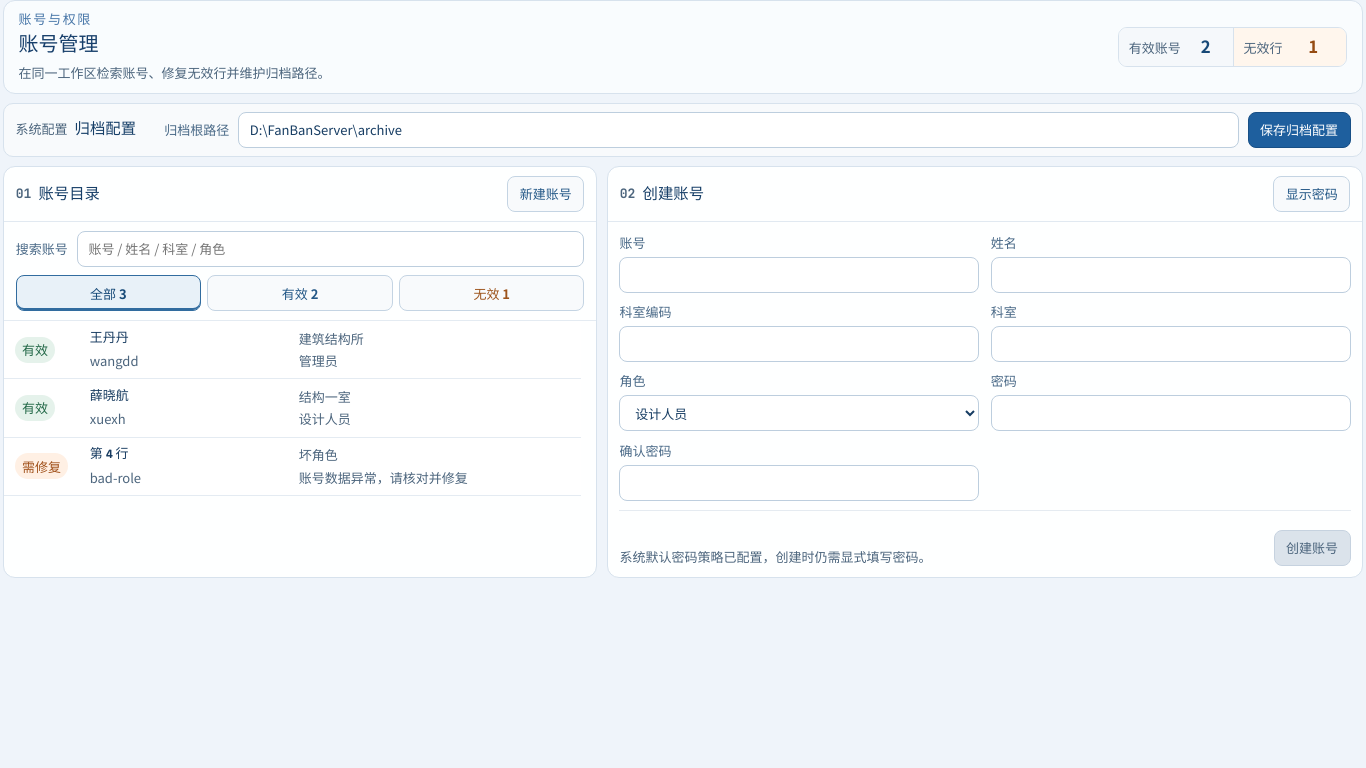
Test: AccountAdminPage › translates unknown invalid-row and backend errors with safe Chinese fallbacks
The image size is (1366, 768).
Expected: the text "账号数据异常，请核对并修复" is shown, [299,468,468,487]
Click the button "有效 王丹丹 wangdd 建筑结构所 管理员".
click(35, 350)  # box [4,321,581,379]
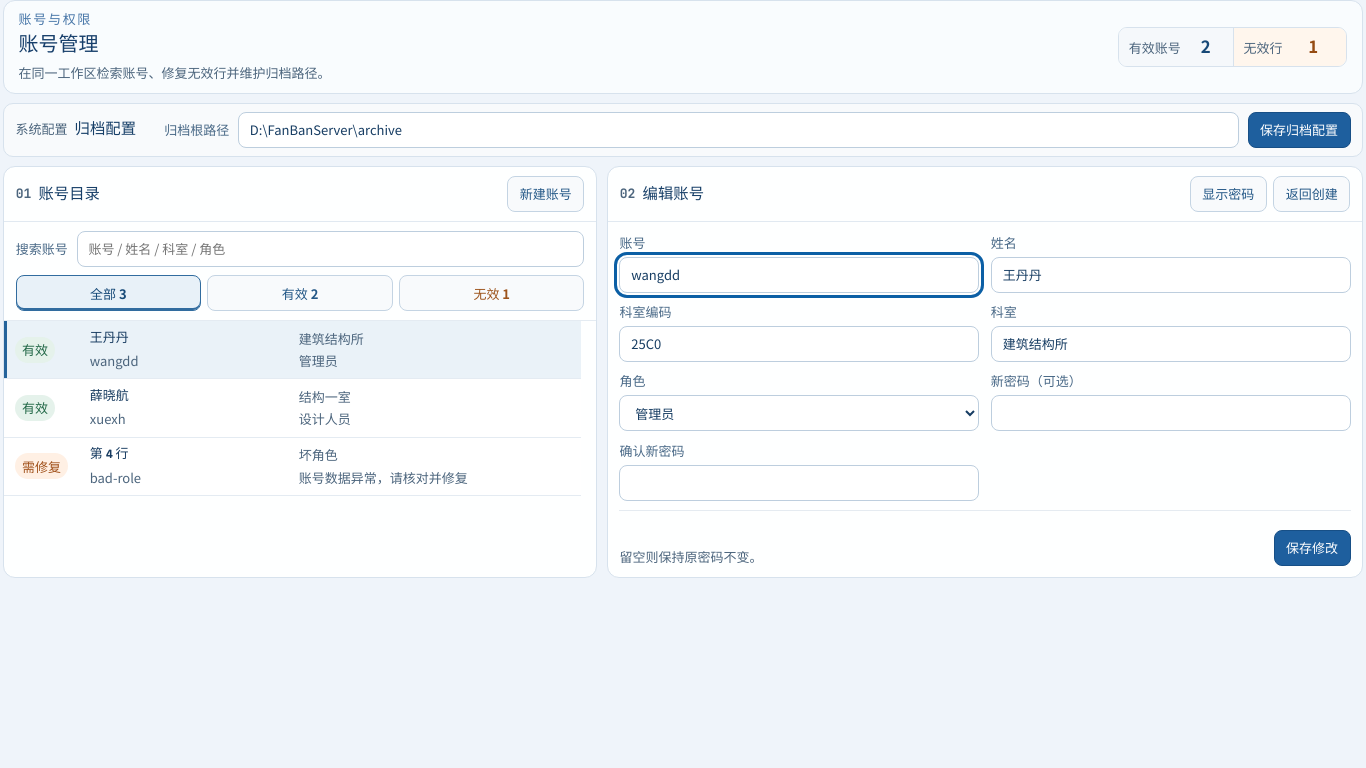
Replace the text in the field labelled "姓名" with "王丹" at (1171, 275), box [991,257,1351,293]
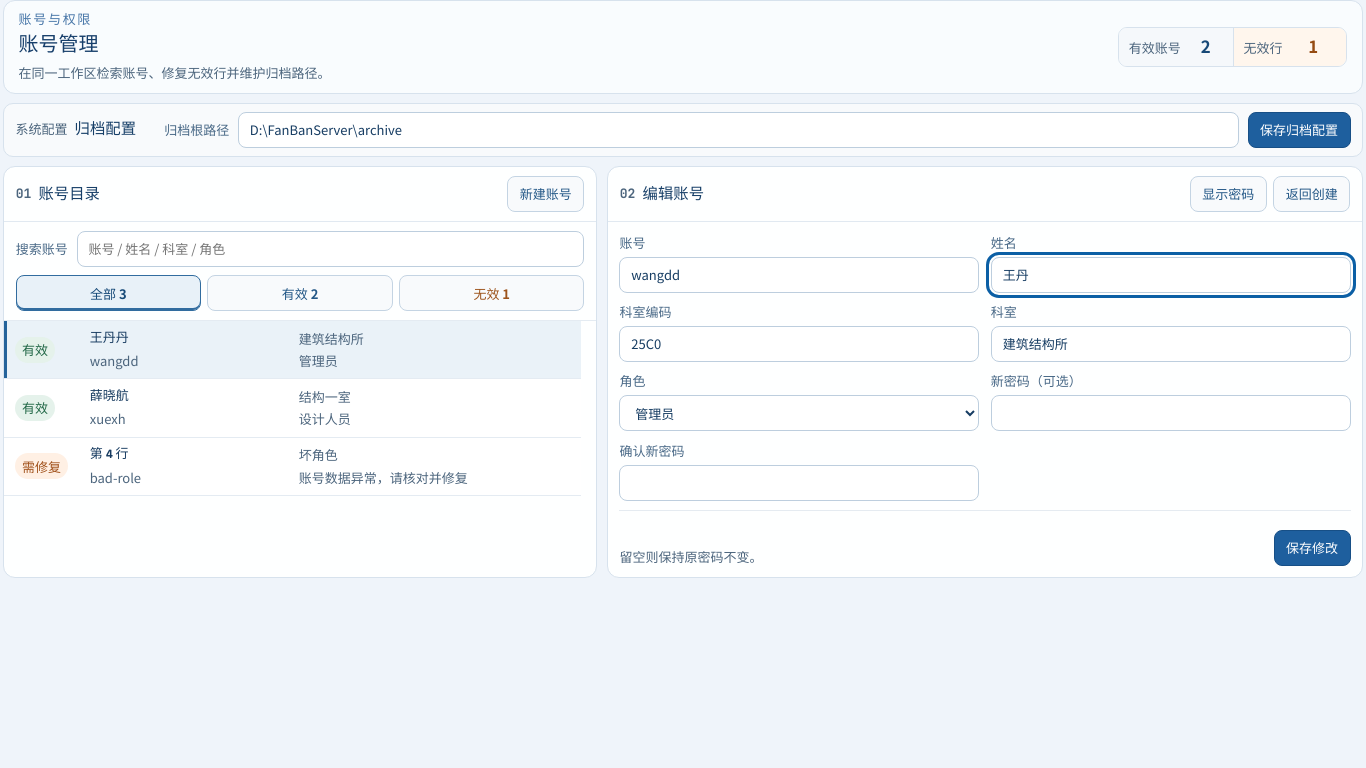
Click the button "保存修改".
click(1312, 548)  # box [1274,530,1351,566]
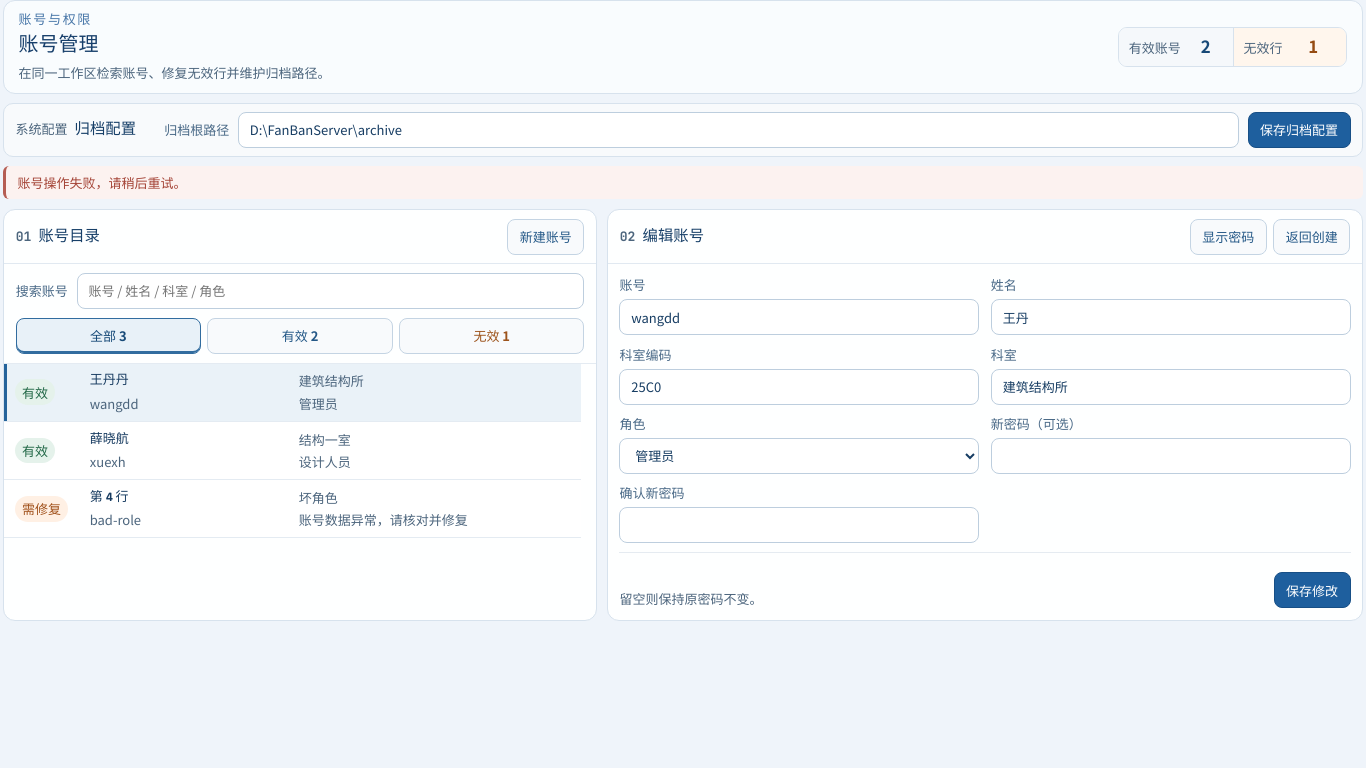
Expected: the message reads "账号操作失败，请稍后重试。", [17,173,186,192]
